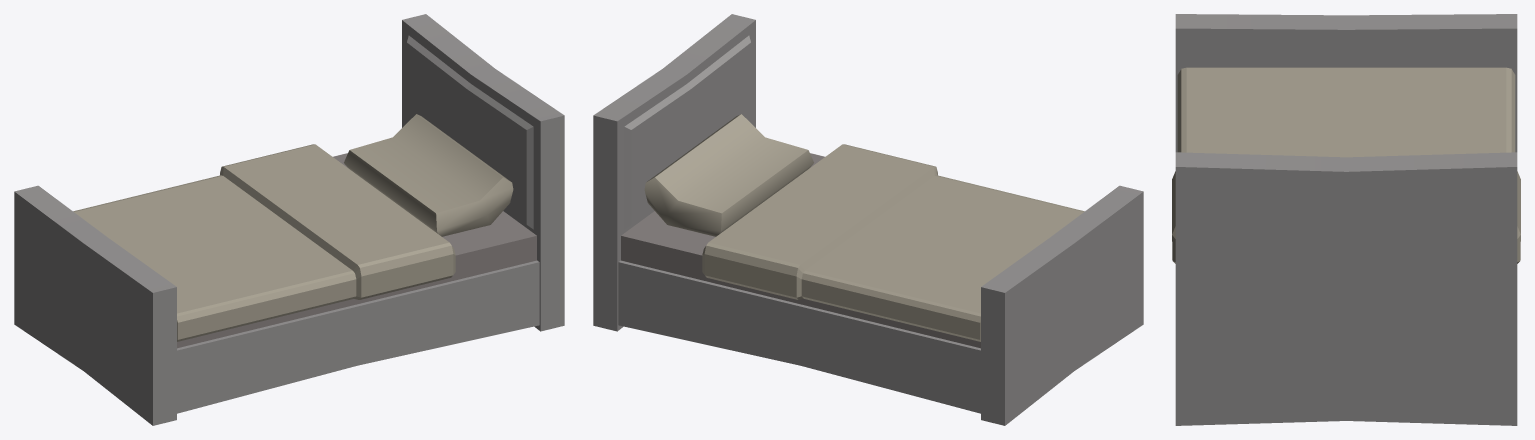
Rendered from BedBasic.glb.
The picture shows the model from 3 angles, left to right: view 1: azimuth 30°, elevation 25°; view 2: azimuth 150°, elevation 25°; view 3: azimuth 270°, elevation 25°; orthographic projection. The views are drawn at different scales.
Parts seen in each view (by area): view 1: pCube71, pCube68, pCube67, pCube69, pCube72, pCube70; view 2: pCube71, pCube68, pCube67, pCube69, pCube72, pCube70; view 3: pCube69, pCube71, pCube68.
Part boxes in pixels (box(x1,y1,x2,y2)): pCube71: box(73, 144, 455, 341); pCube68: box(14, 185, 176, 425); pCube67: box(177, 260, 539, 413); pCube69: box(402, 14, 564, 331); pCube72: box(344, 114, 513, 236); pCube70: box(177, 153, 536, 348); pCube71: box(702, 144, 1084, 341); pCube68: box(981, 185, 1143, 425); pCube67: box(618, 260, 980, 413); pCube69: box(593, 14, 755, 331); pCube72: box(644, 114, 813, 236); pCube70: box(621, 153, 980, 348); pCube69: box(1175, 152, 1517, 425); pCube71: box(1172, 67, 1520, 263); pCube68: box(1175, 14, 1517, 152).
Size of the model in its own units: 71.09 by 34.67 by 42.31.
